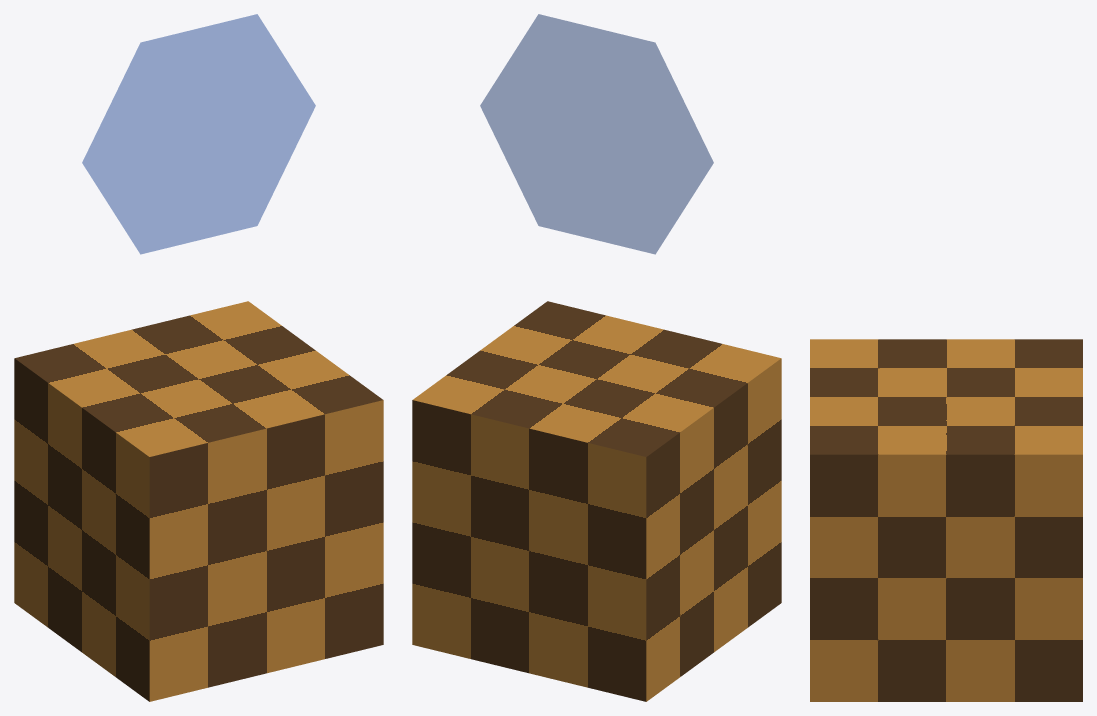
File: props.obj
The picture shows the model from 3 angles, left to right: view 1: azimuth 30°, elevation 25°; view 2: azimuth 150°, elevation 25°; view 3: azimuth 270°, elevation 25°; orthographic projection.
Visible parts, largest first — view 1: Crate, Pane; view 2: Crate, Pane; view 3: Crate.
Boxes of the visible parts, left/top/right/bottom form: Crate: left=14, top=301, right=383, bottom=701; Pane: left=82, top=14, right=315, bottom=254; Crate: left=412, top=301, right=781, bottom=701; Pane: left=480, top=14, right=713, bottom=254; Crate: left=810, top=339, right=1082, bottom=701.
Size of the model in its own units: 1 by 2.43 by 1.
Materials: 2 (1 with a texture image).
